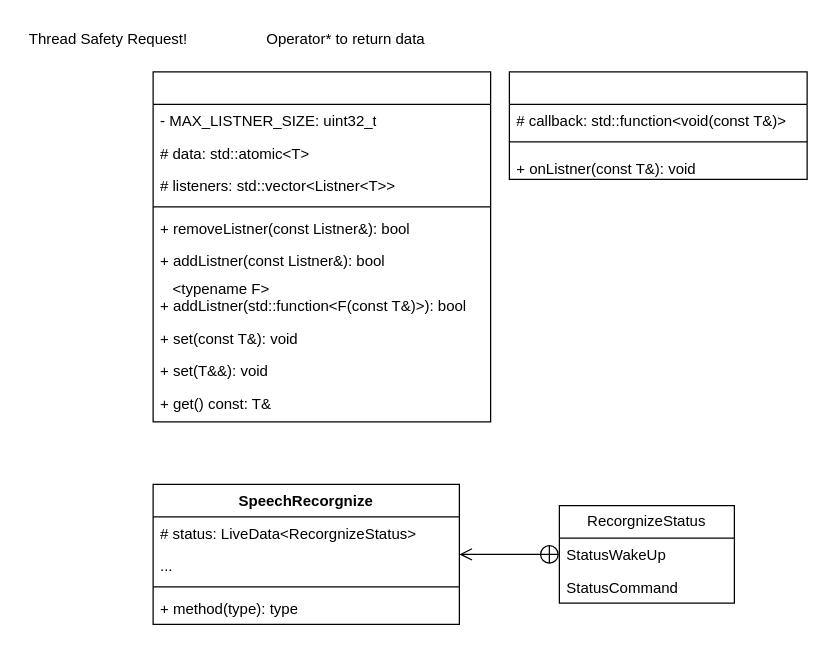
The diagram is 829 pixels wide and 649 high, and some of its shapes have lost their labels. The box of each missing label's shape, as (x1, y1, x2, y2) in pixels:
Listener<T>: (508, 71, 807, 179)
LiveData<T>: (152, 71, 491, 422)
